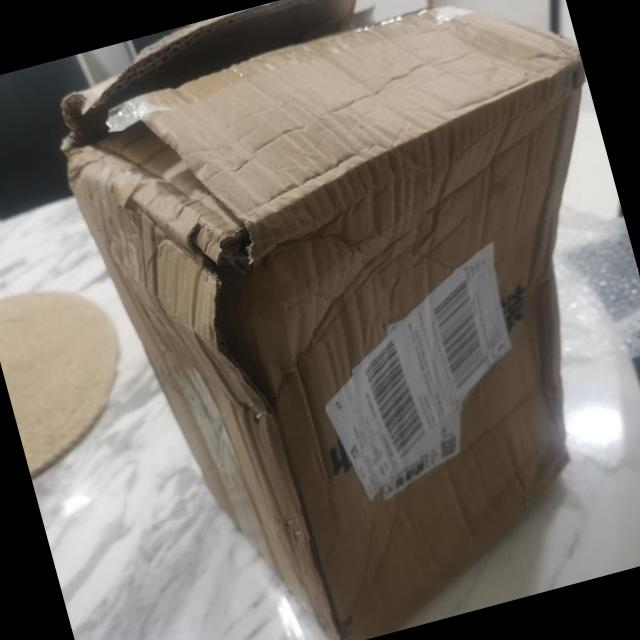tear: (54, 48, 229, 221), (207, 232, 281, 421)
